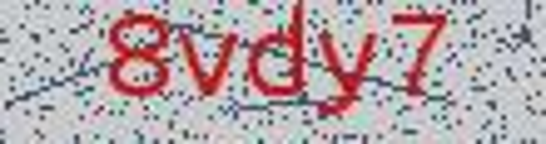7: (389, 4, 454, 103)
8: (95, 9, 177, 106)
d: (243, 2, 311, 105)
v: (175, 19, 243, 107)
y: (311, 22, 382, 130)
